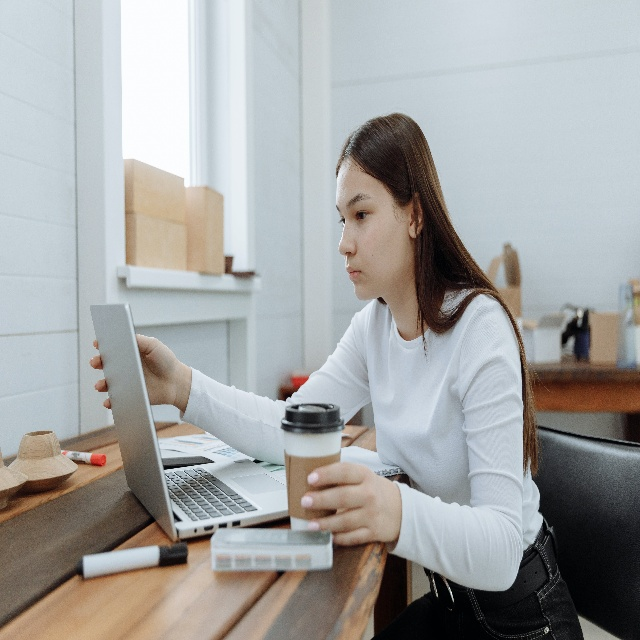Sin_guantes: (301, 456, 397, 550), (89, 335, 182, 412)
